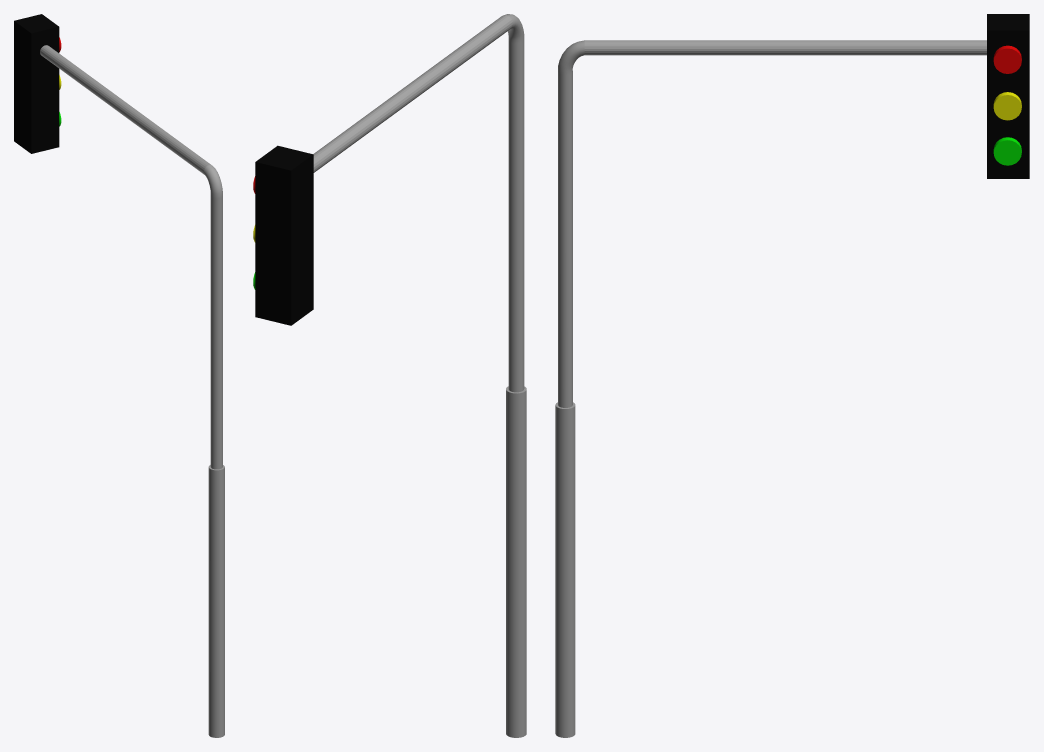
The model's file is trafficlamb.fbx.
3 views of the same model, side by side, from view 1: azimuth 30°, elevation 25°; view 2: azimuth 150°, elevation 25°; view 3: azimuth 270°, elevation 25° (orthographic). The views are drawn at different scales.
Visible parts, largest first — view 1: trafficlamb; view 2: trafficlamb; view 3: trafficlamb.
Part boxes in pixels (<box>): trafficlamb: <box>14,14,224,737</box>; trafficlamb: <box>253,14,526,737</box>; trafficlamb: <box>555,14,1029,737</box>.
Bounding box in the file's own units: 1.18 × 19.88 × 12.
